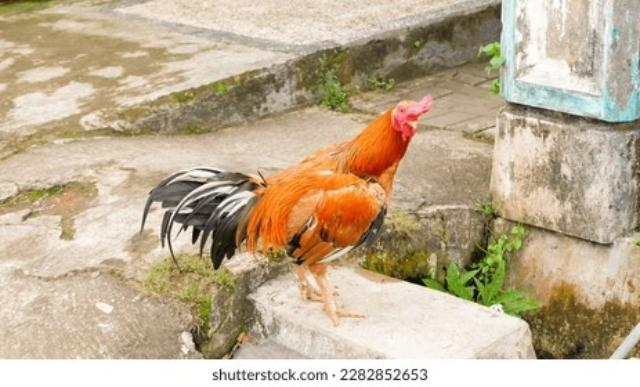Chicken: (141, 93, 437, 326)
